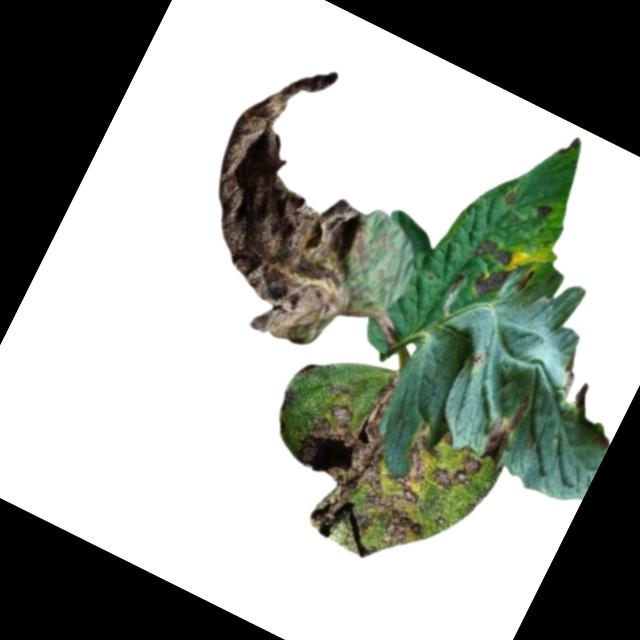Early_blight: (153, 36, 441, 361), (265, 349, 514, 594), (474, 384, 535, 465), (550, 345, 592, 402), (467, 259, 513, 305), (471, 232, 519, 271), (530, 198, 555, 221), (499, 183, 521, 208)
